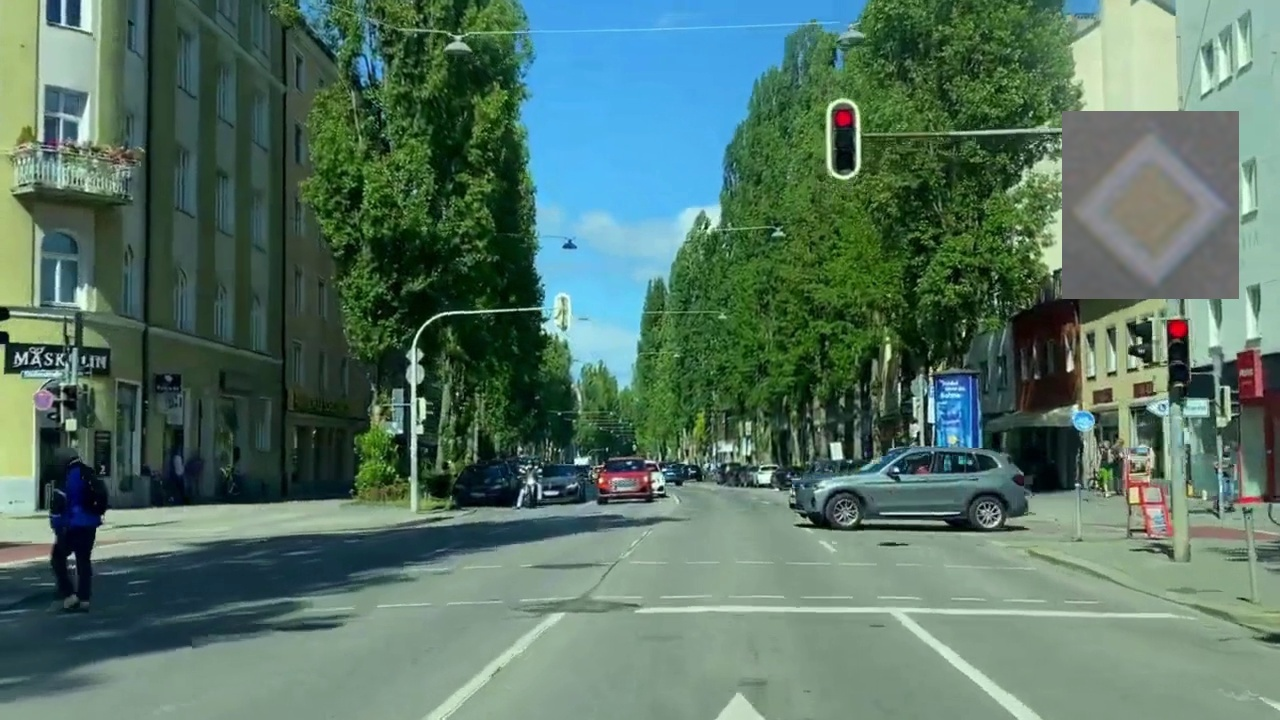Priority road: (1062, 111, 1239, 299)
